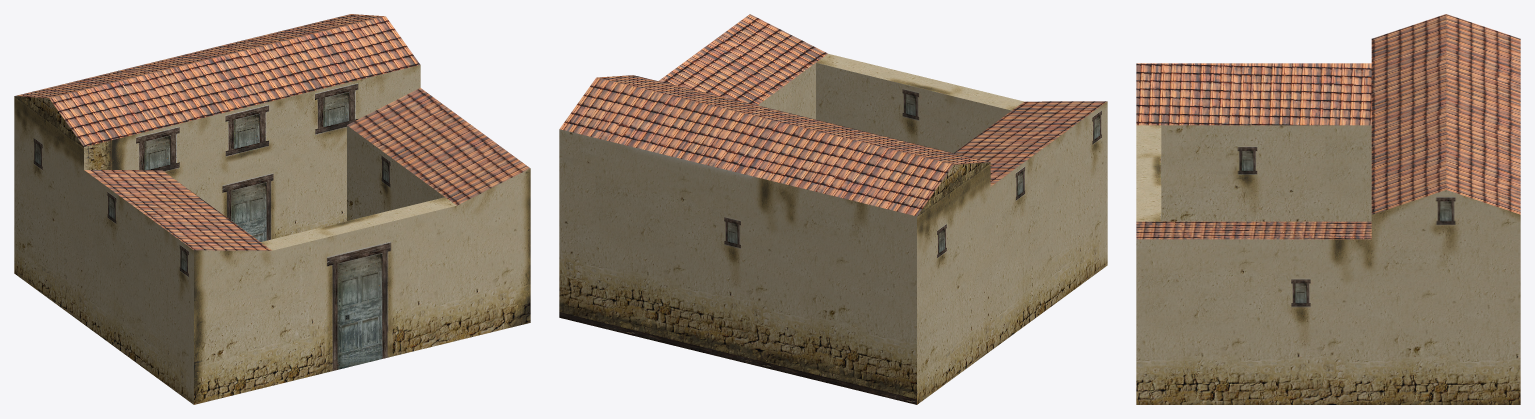
Rendered from romhouse2.fbx.
3 views of the same model, side by side, from view 1: azimuth 30°, elevation 25°; view 2: azimuth 150°, elevation 25°; view 3: azimuth 270°, elevation 25° (orthographic). The views are drawn at different scales.
Visible parts, largest first — view 1: Model; view 2: Model; view 3: Model.
Part boxes in pixels (box(x1,y1,x2,y2)): Model: box(14, 14, 530, 404); Model: box(559, 14, 1107, 404); Model: box(1136, 14, 1520, 404).
Bounding box in the file's own units: 7465 × 4253 × 6894.
